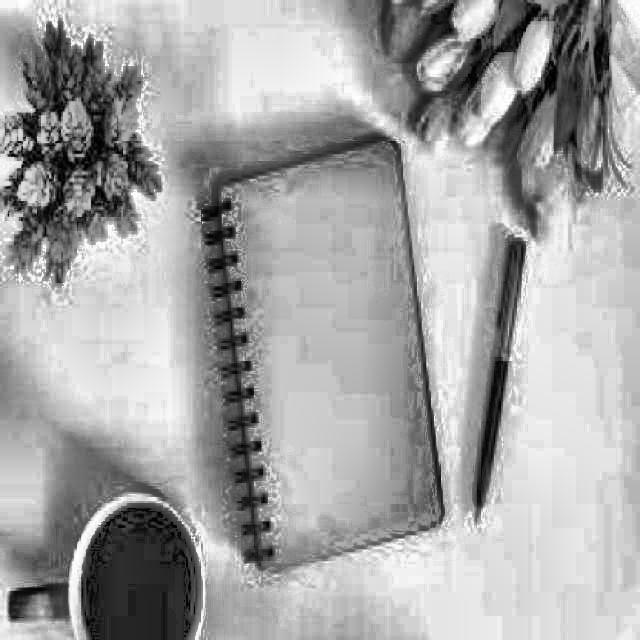Notebook: (185, 145, 453, 583)
Pen: (465, 228, 535, 527)
